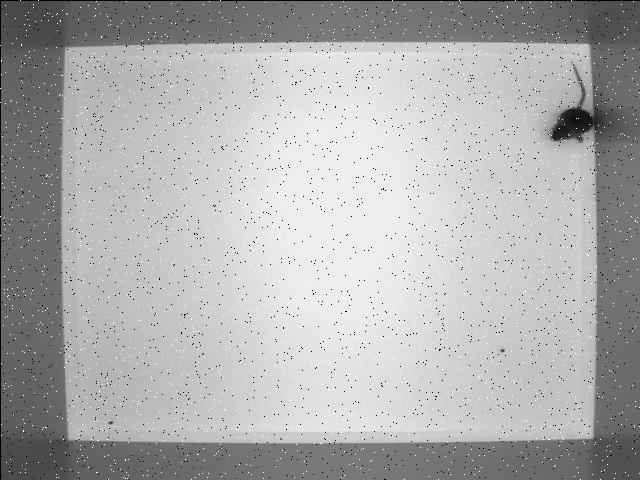Tikus: (548, 60, 590, 144)
